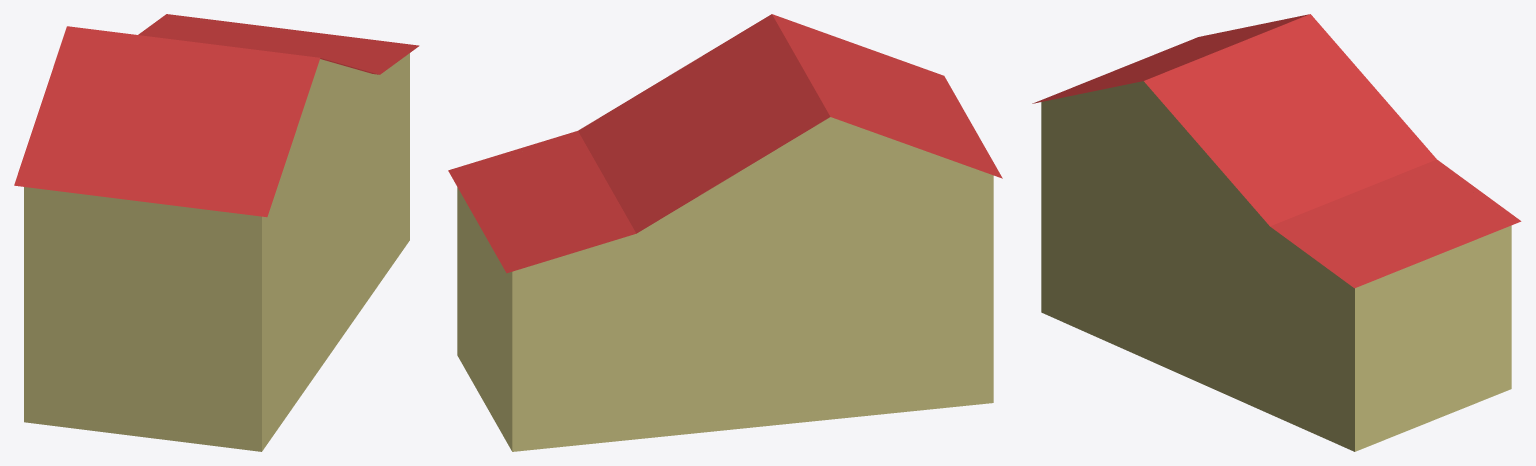
3 views of the same model, side by side, from view 1: azimuth 30°, elevation 25°; view 2: azimuth 150°, elevation 25°; view 3: azimuth 270°, elevation 25° (orthographic). The views are drawn at different scales.
Bounding box in the file's own units: 17.62 × 17.32 × 10.96.
